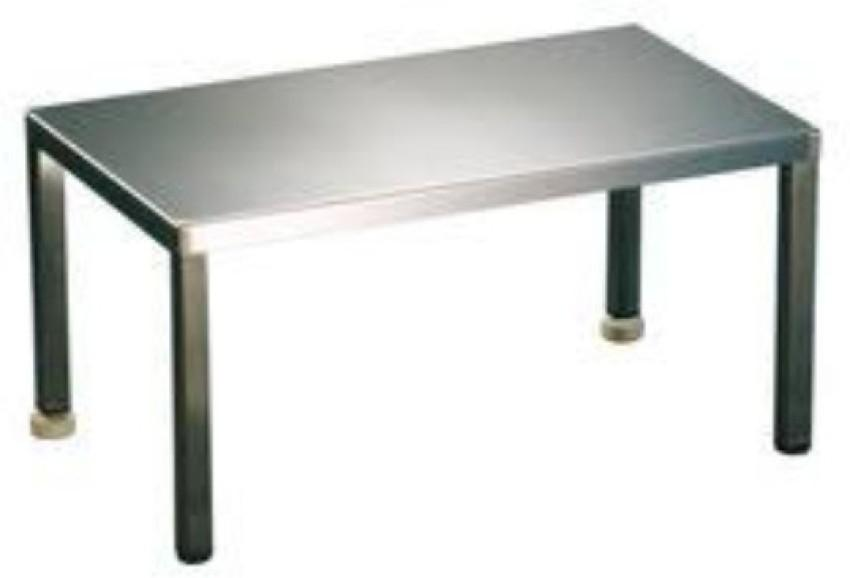stool: (21, 12, 821, 567)
